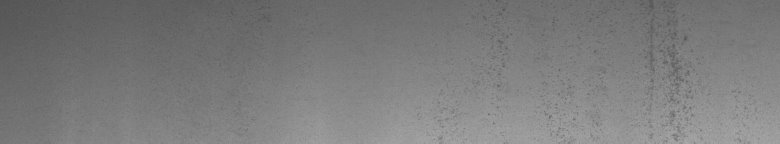ib: (438, 8, 561, 128)
